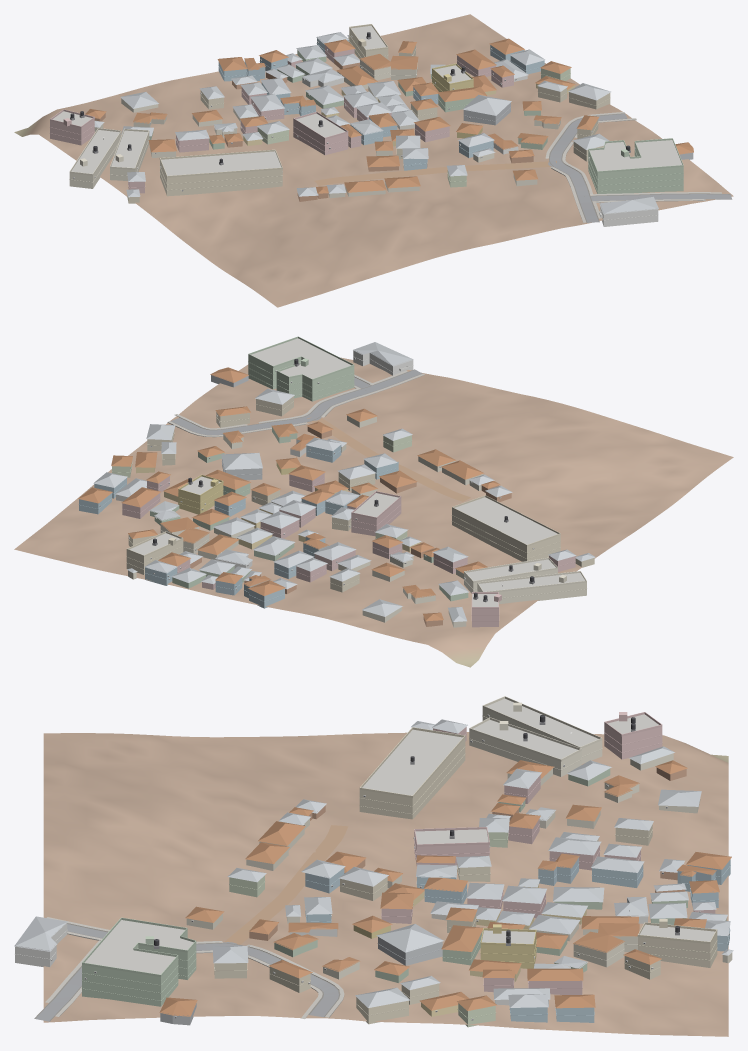
The picture shows the model from 3 angles, top to bottom: view 1: azimuth 30°, elevation 25°; view 2: azimuth 150°, elevation 25°; view 3: azimuth 270°, elevation 25°; orthographic projection. The views are drawn at different scales.
Parts seen in each view (by area): view 1: Terrain-col, Buildings-col, Details, Roads-col, Sidewalks-col; view 2: Terrain-col, Buildings-col, Details, Roads-col, Sidewalks-col; view 3: Terrain-col, Buildings-col, Details, Roads-col, Sidewalks-col.
Part boxes in pixels (box(x1,y1,x2,y2)): Terrain-col: box(14, 14, 733, 307); Buildings-col: box(50, 25, 693, 226); Details: box(50, 24, 683, 220); Roads-col: box(314, 113, 732, 222); Sidewalks-col: box(545, 112, 721, 222); Terrain-col: box(14, 357, 733, 667); Buildings-col: box(78, 338, 595, 627); Details: box(79, 336, 586, 621); Roads-col: box(171, 369, 470, 501); Sidewalks-col: box(167, 370, 424, 437); Terrain-col: box(43, 732, 728, 1036); Buildings-col: box(14, 698, 733, 1027); Details: box(15, 696, 730, 1020); Roads-col: box(34, 825, 348, 1021); Sidewalks-col: box(45, 917, 344, 1018).
Size of the model in its own units: 279 by 27.39 by 269.
